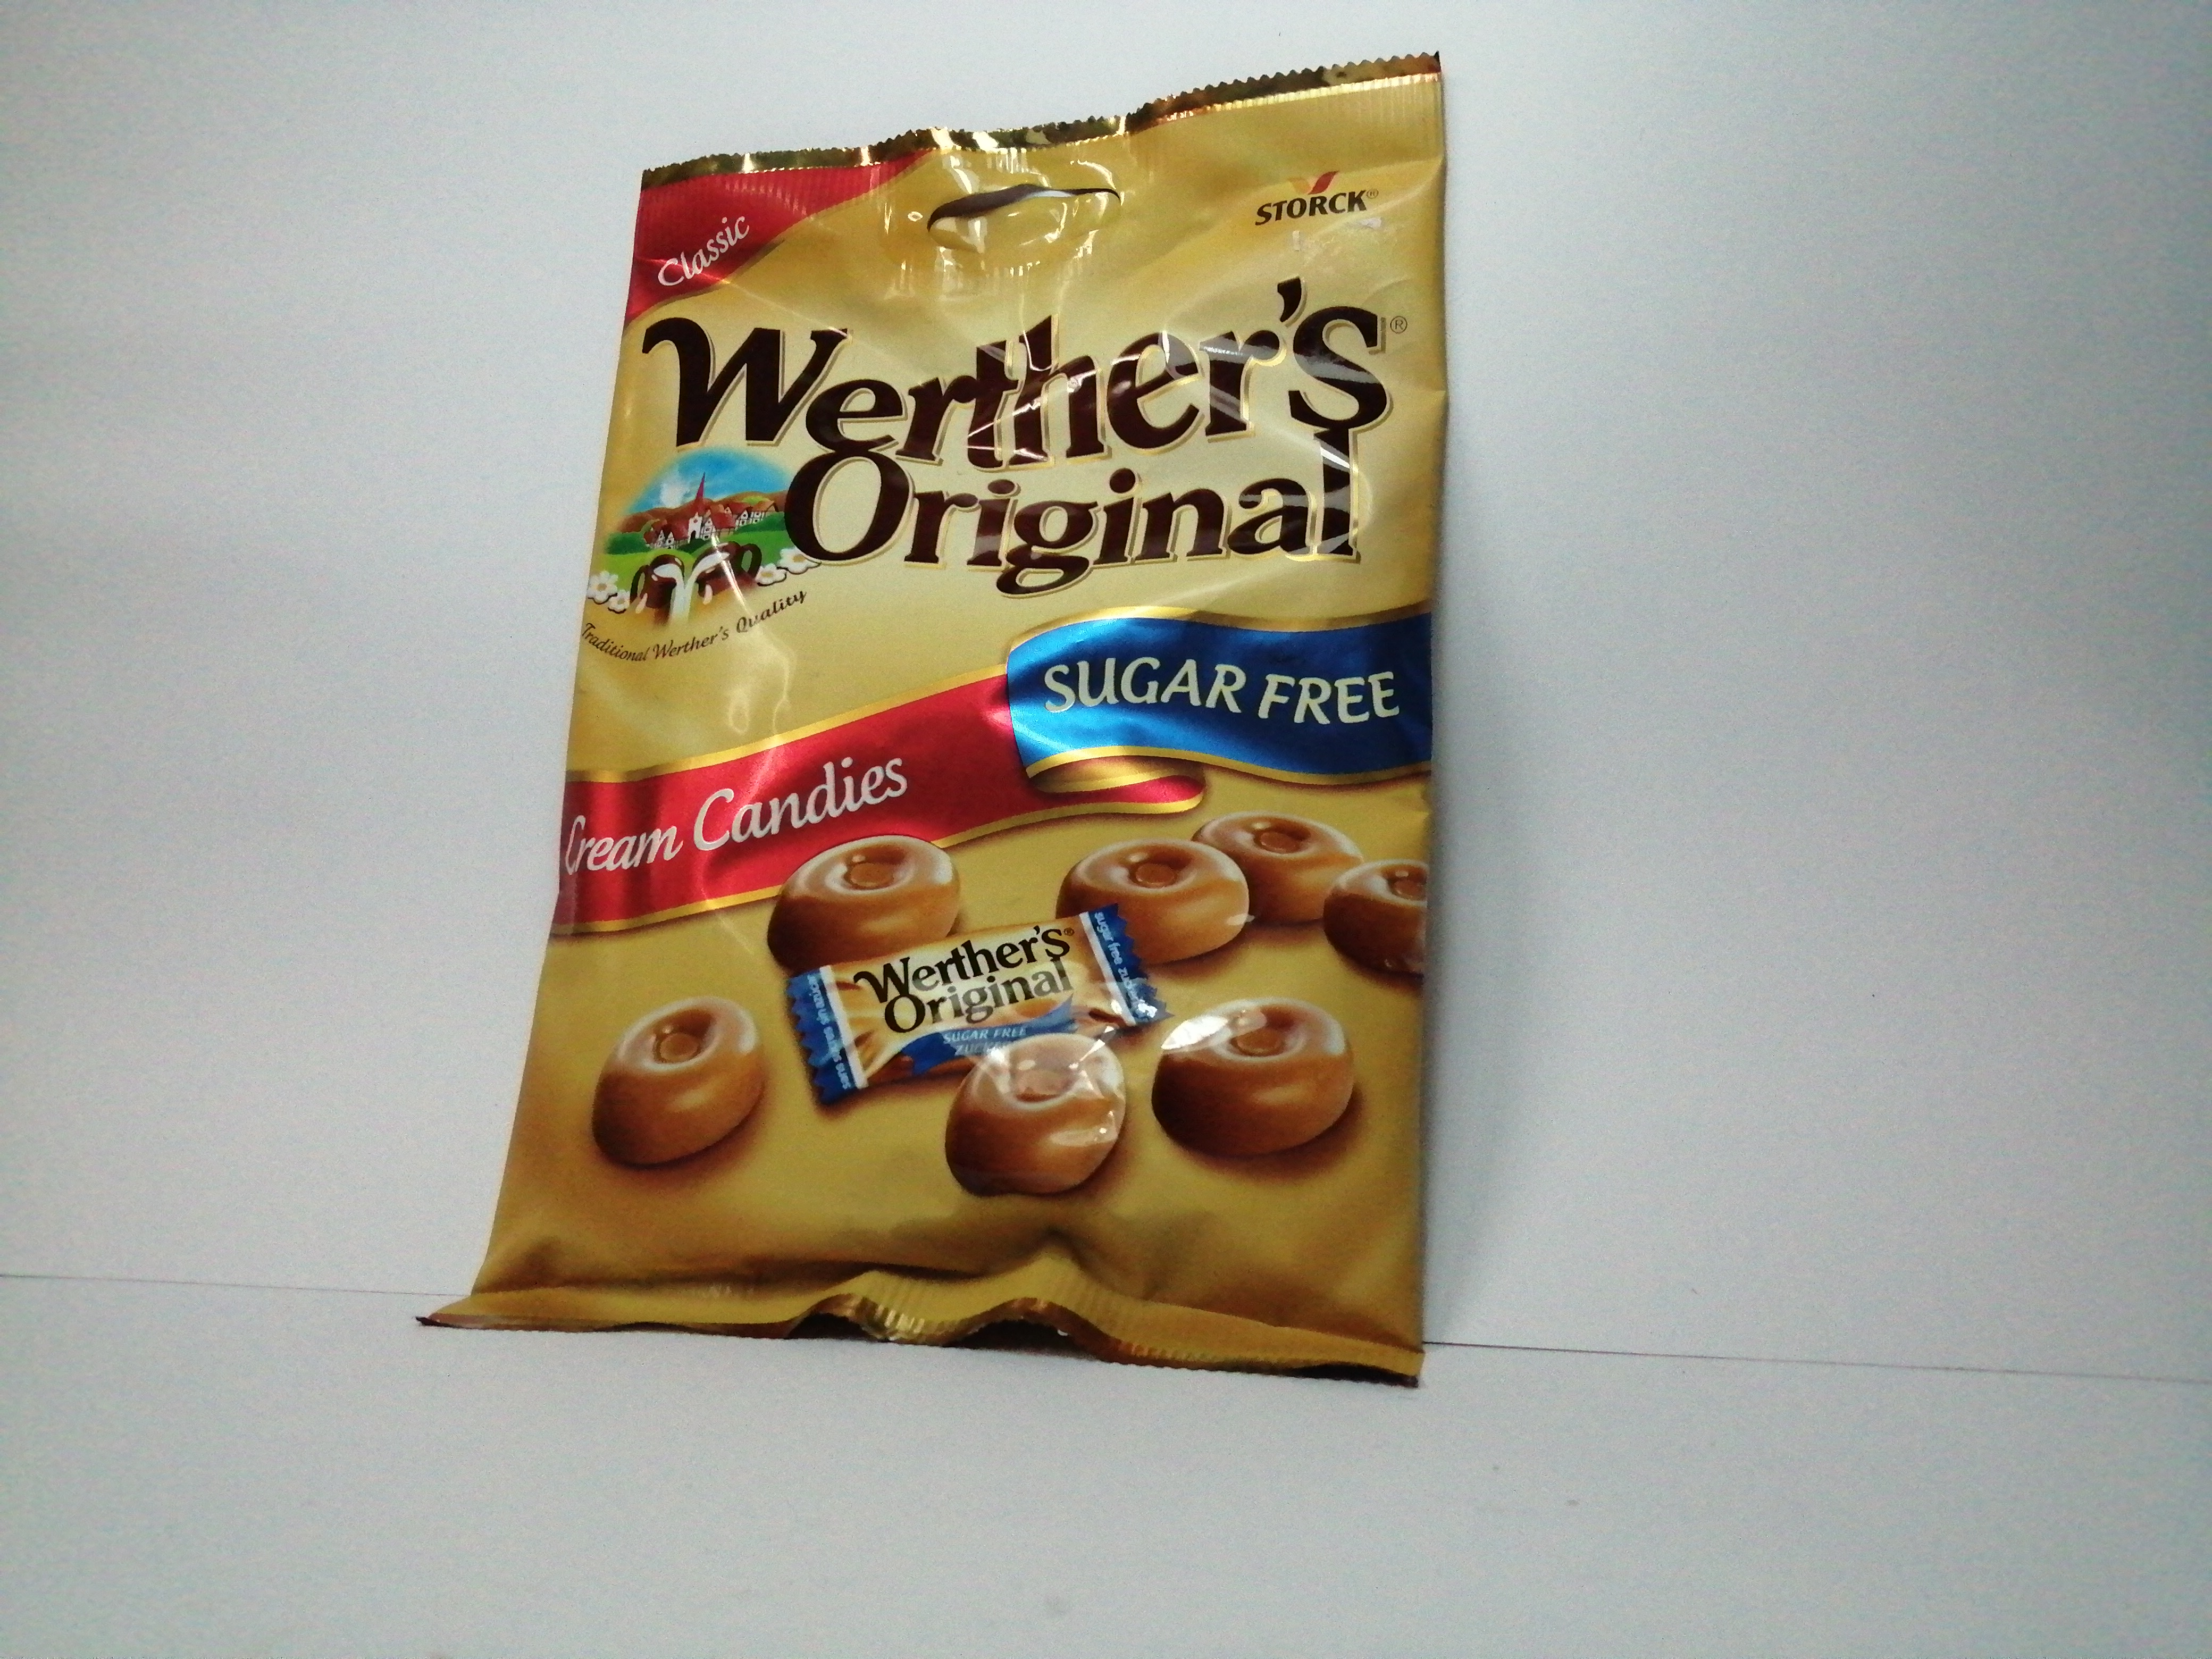dulces: (432, 52, 1453, 1385)
